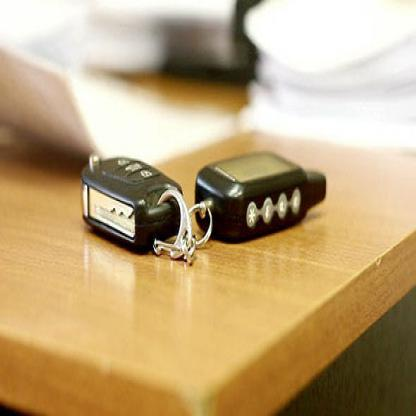keys: (83, 146, 327, 250)
